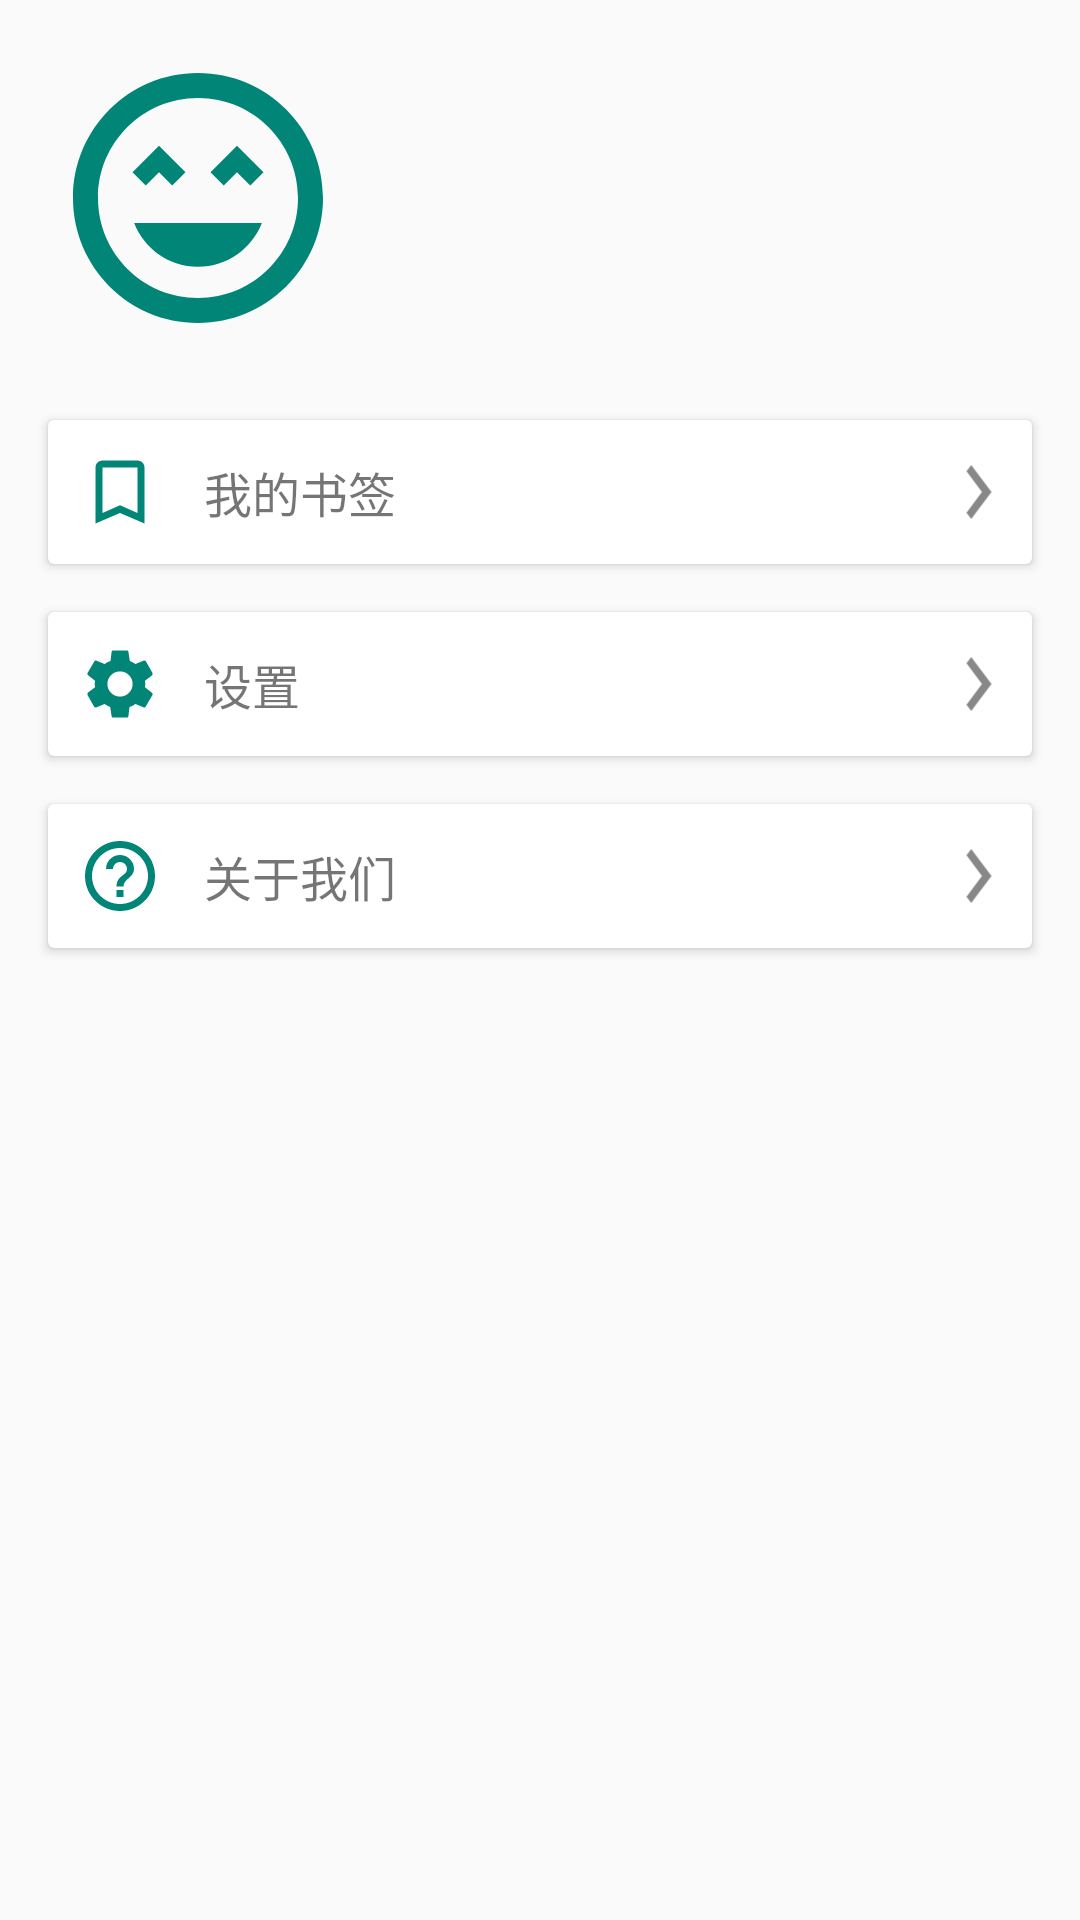

Point at icon controls on the screen. Image size 1080px x 1920px, points as (x,y).
bookmark border: (120,492)
help: (120,876)
navigate next: (979,492), (979,684), (979,876)
settings: (120,684)
very satisfied: (198,198)
